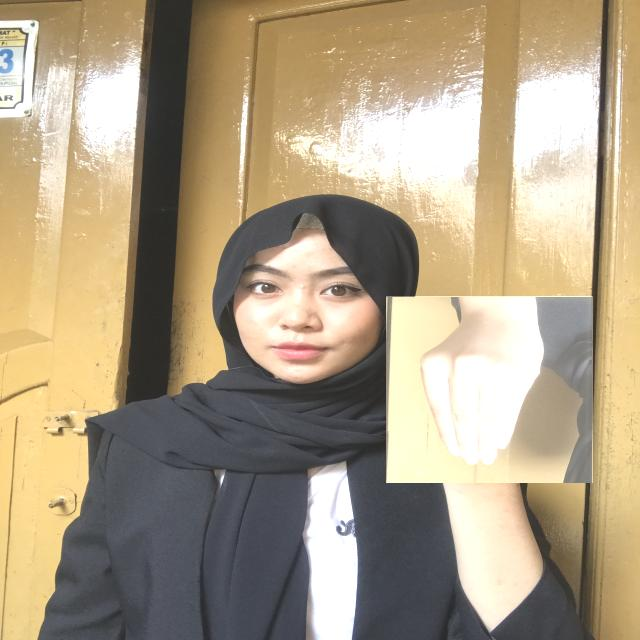kapan: (386, 296, 593, 483)
